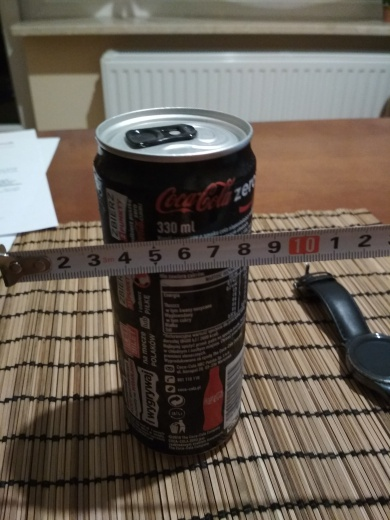colazero: (88, 96, 261, 479)
